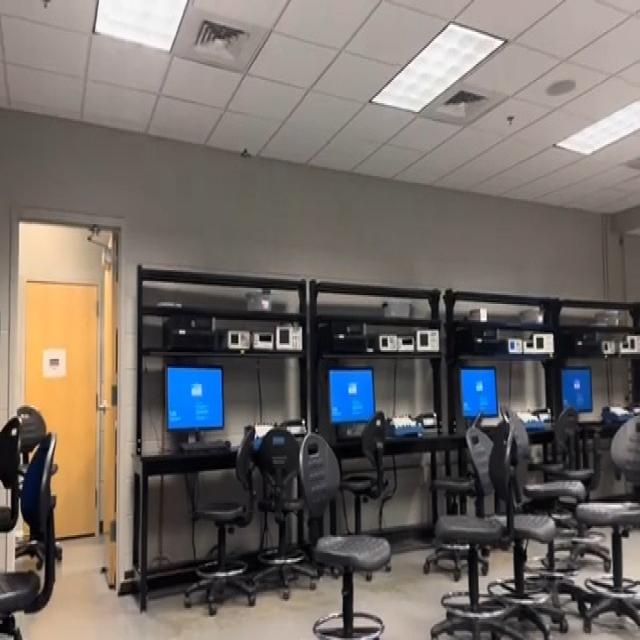drone: (233, 135, 262, 174)
